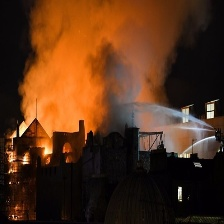fire: (35, 143, 55, 157)
smoke: (14, 1, 203, 110)
